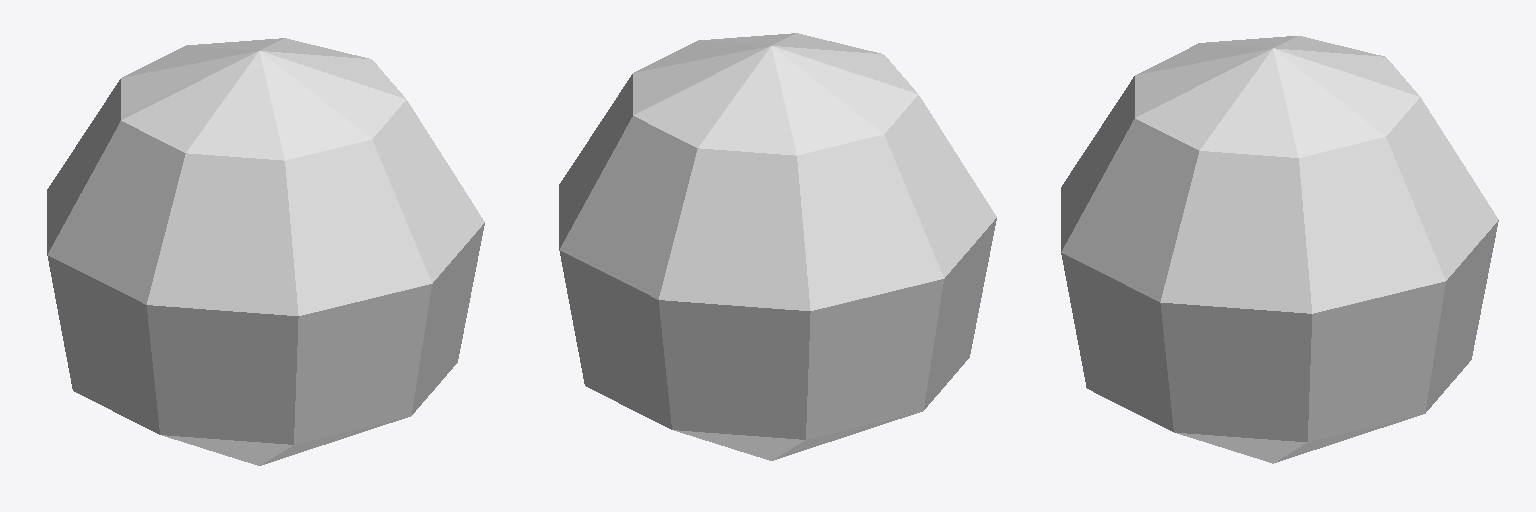
File: OmniLight.obj
The picture shows the model from 3 angles: view 1: azimuth 30°, elevation 25°; view 2: azimuth 150°, elevation 25°; view 3: azimuth 270°, elevation 25°; orthographic projection.
Parts seen in each view (by area): view 1: (null); view 2: (null); view 3: (null).
Part boxes in pixels (bbox=[...]): (null): bbox=[47, 38, 484, 465]; (null): bbox=[559, 33, 996, 460]; (null): bbox=[1061, 36, 1498, 463].
Bounding box in the file's own units: 0.0543 × 0.056 × 0.0535.